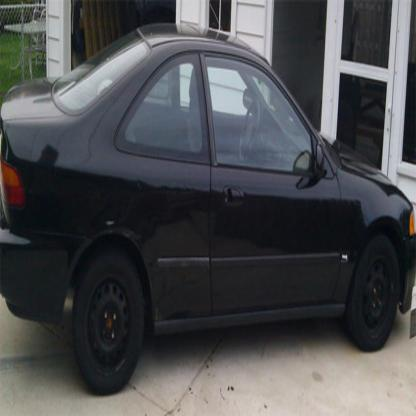Car: (1, 1, 416, 397)
